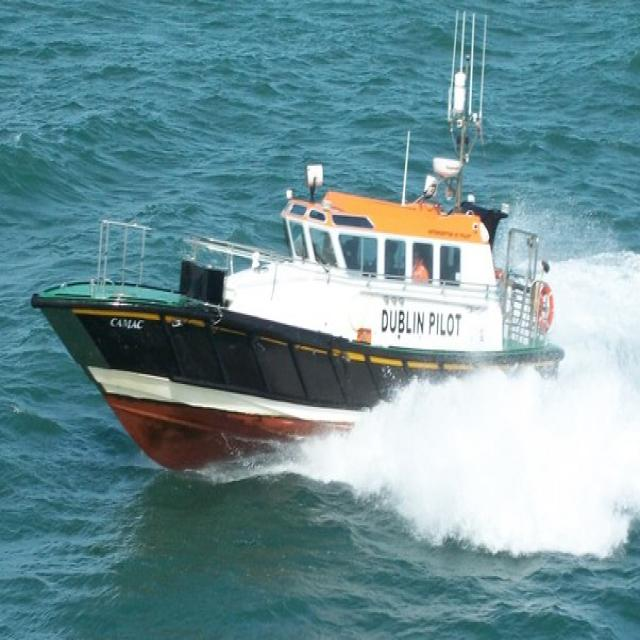houseboat: (30, 11, 569, 488)
